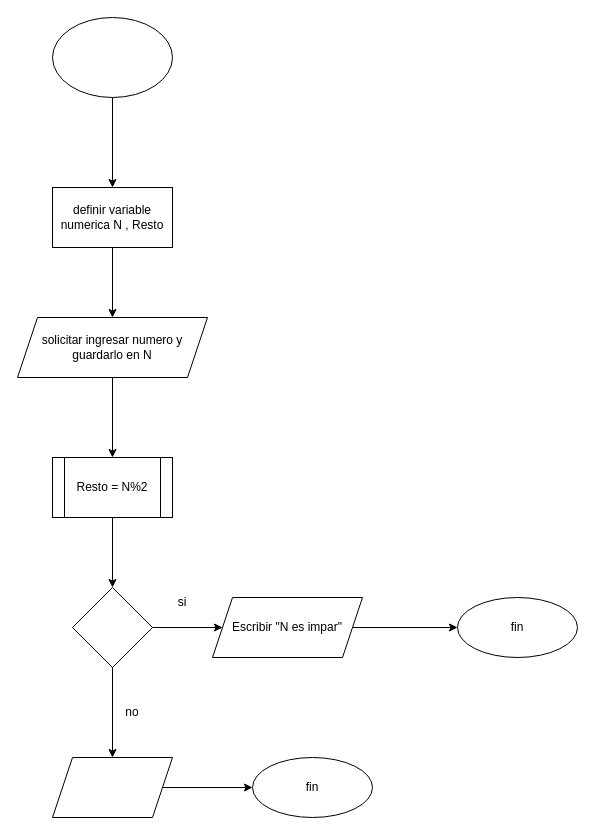
The diagram is 595 pixels wide and 835 high, and some of its shapes have lost their labels. The centre of each missing label's shape, as x and y in pixels:
escribir "N es par": (x=112, y=787)
inicio: (x=112, y=57)
Resto = 0: (x=112, y=627)
